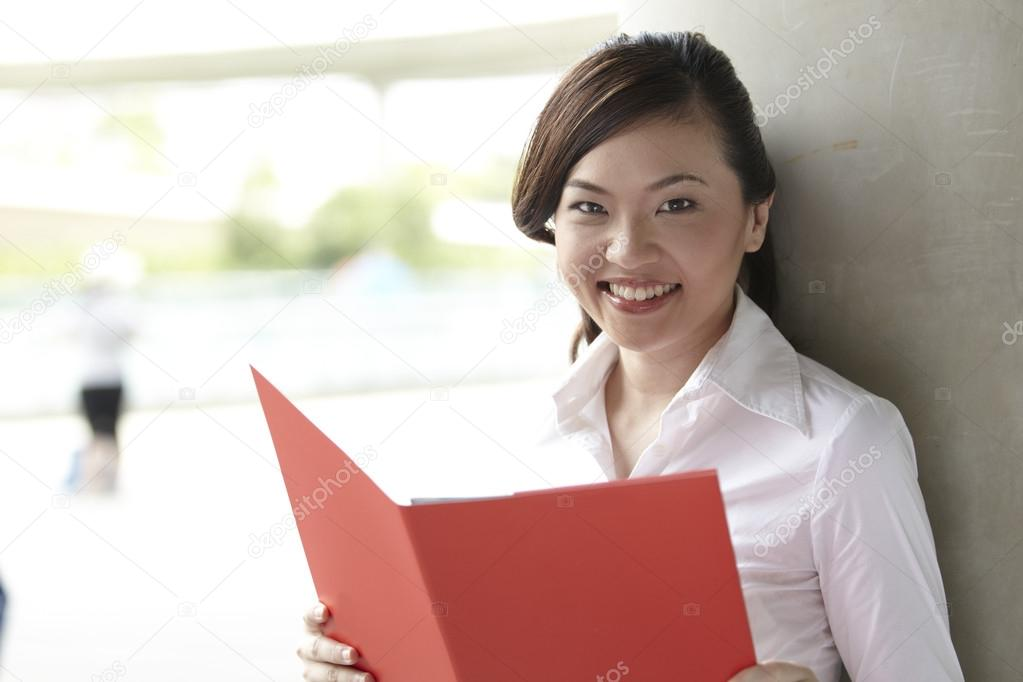red folder: (232, 353, 785, 682)
